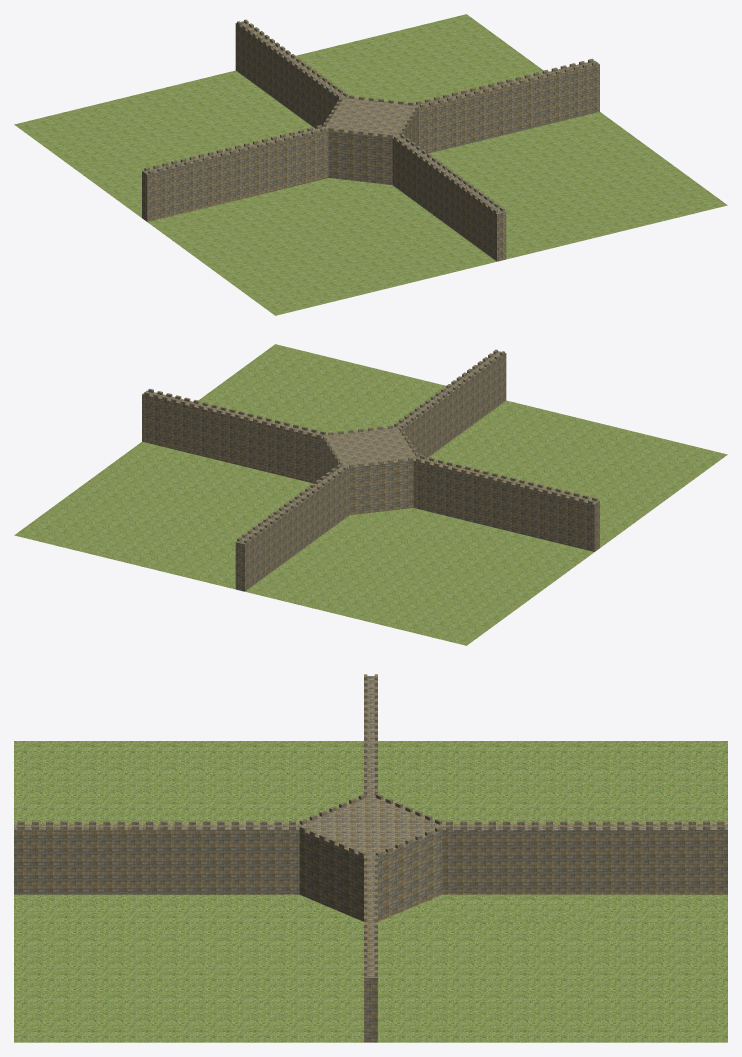
Rendered from map50GBNSEW.fbx.
The picture shows the model from 3 angles, top to bottom: view 1: azimuth 30°, elevation 25°; view 2: azimuth 150°, elevation 25°; view 3: azimuth 270°, elevation 25°; orthographic projection. The views are drawn at different scales.
Visible parts, largest first — view 1: map50GBNSEW:Layer1, map50GBNSEW:Layer2, map50GBNSEW:Layer3, map50GBNSEW:Layer4; view 2: map50GBNSEW:Layer1, map50GBNSEW:Layer2, map50GBNSEW:Layer3, map50GBNSEW:Layer4; view 3: map50GBNSEW:Layer1, map50GBNSEW:Layer2, map50GBNSEW:Layer3, map50GBNSEW:Layer4.
Boxes of the visible parts, x1,y1,x2,y2 form: map50GBNSEW:Layer1: (14, 14, 727, 315); map50GBNSEW:Layer2: (142, 21, 599, 261); map50GBNSEW:Layer3: (144, 19, 597, 213); map50GBNSEW:Layer4: (323, 95, 418, 137); map50GBNSEW:Layer1: (14, 344, 727, 645); map50GBNSEW:Layer2: (142, 351, 599, 591); map50GBNSEW:Layer3: (144, 349, 597, 543); map50GBNSEW:Layer4: (323, 425, 418, 467); map50GBNSEW:Layer1: (14, 741, 727, 1042); map50GBNSEW:Layer2: (14, 676, 727, 1042); map50GBNSEW:Layer3: (17, 674, 724, 976); map50GBNSEW:Layer4: (299, 793, 442, 856).
Bounding box in the file's own units: 1 × 0.105 × 1.
2 materials, 2 textured.
